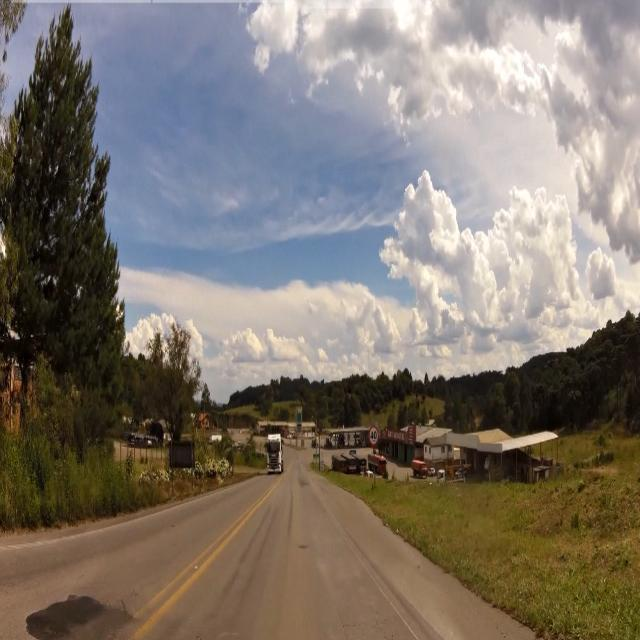R-19: (369, 425, 378, 446)
